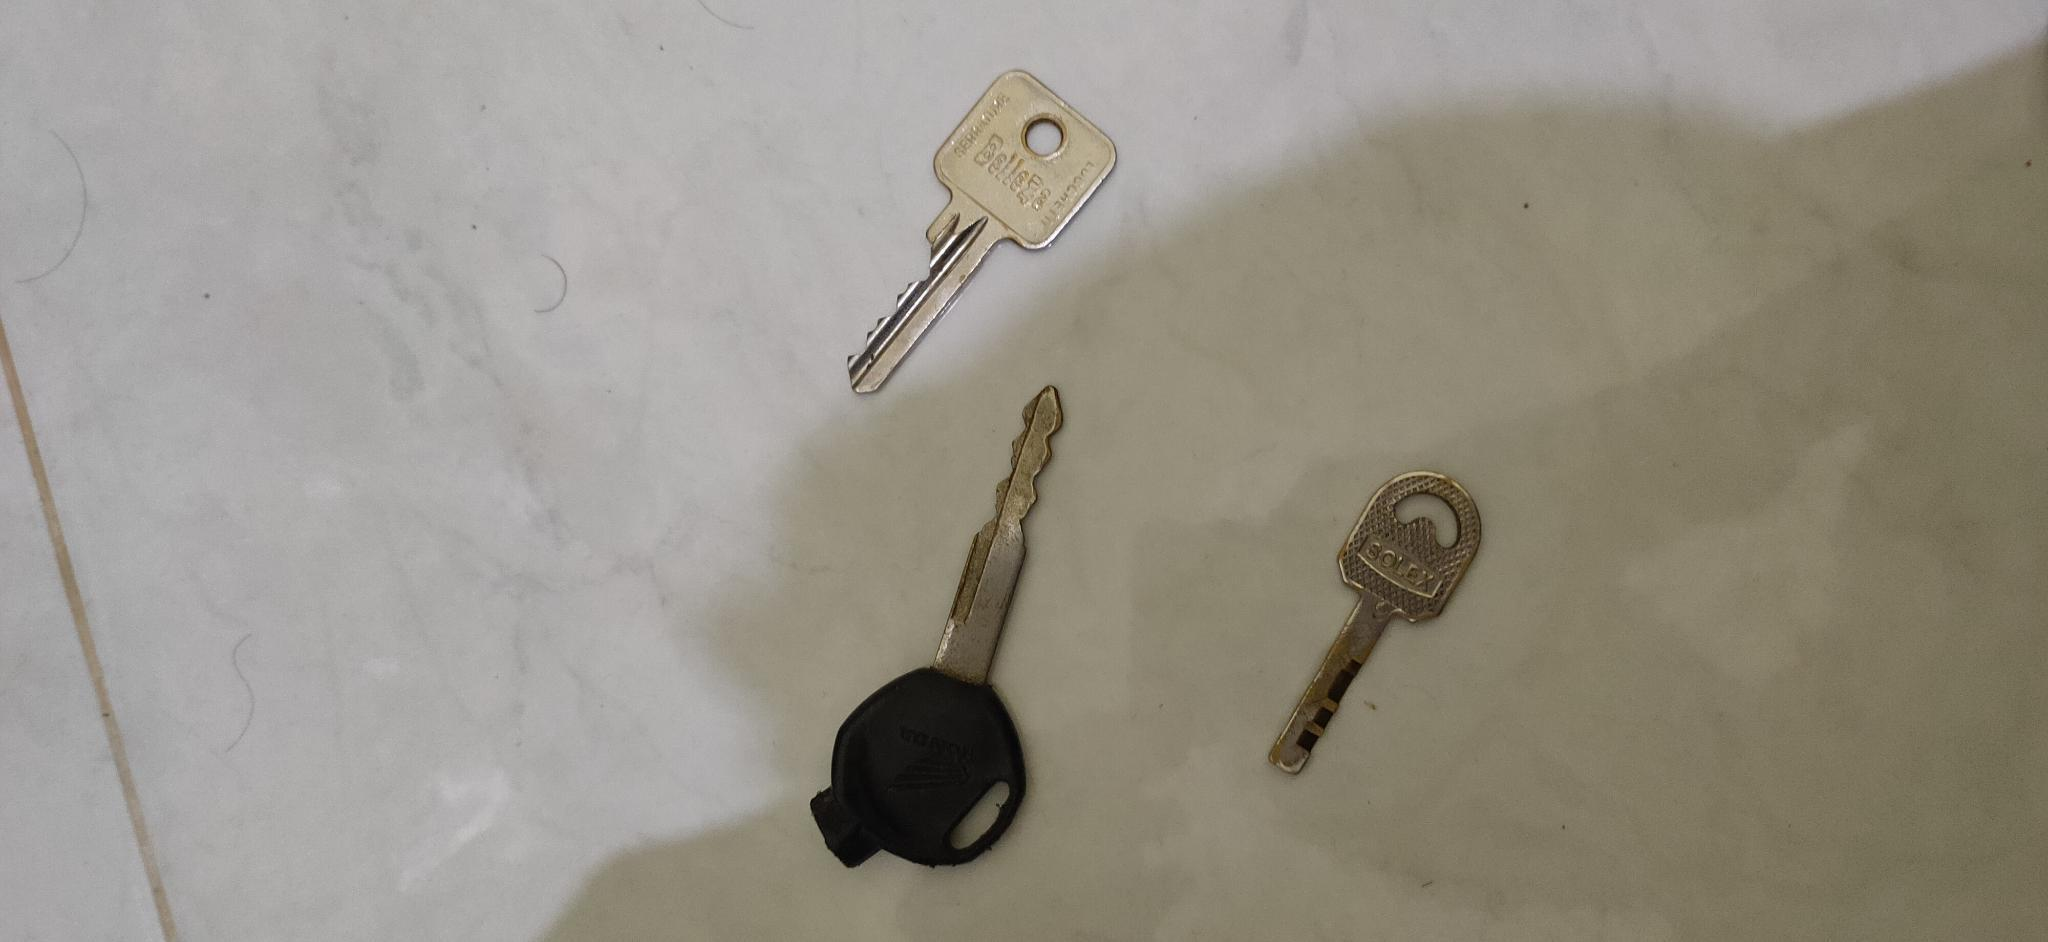keys: (801, 384, 1074, 875), (842, 65, 1125, 404), (1267, 459, 1486, 783)
